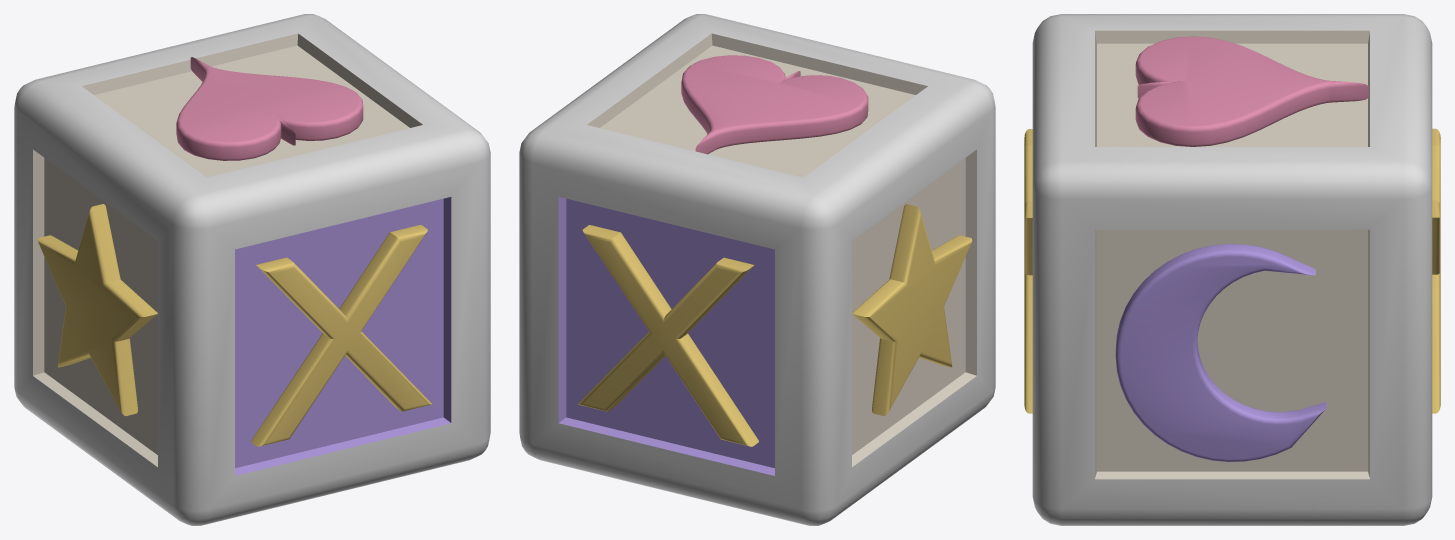
Rendered from W6_Block_X.fbx.
3 views of the same model, side by side, from view 1: azimuth 30°, elevation 25°; view 2: azimuth 150°, elevation 25°; view 3: azimuth 270°, elevation 25° (orthographic). The views are drawn at different scales.
Parts seen in each view (by area): view 1: W6_Block_X; view 2: W6_Block_X; view 3: W6_Block_X.
Boxes of the visible parts, bbox=[...] form: W6_Block_X: bbox=[14, 14, 490, 525]; W6_Block_X: bbox=[519, 14, 995, 525]; W6_Block_X: bbox=[1024, 14, 1440, 525].
Bounding box in the file's own units: 0.375 × 0.3675 × 0.375.
